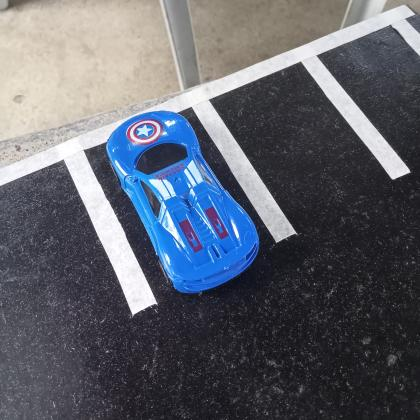Car: (106, 110, 259, 294)
